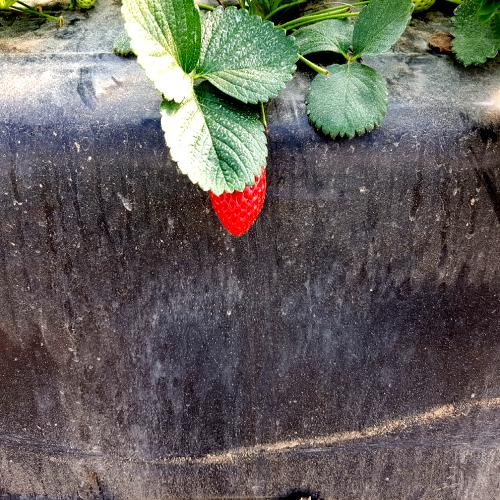ripe: (212, 123, 266, 243)
